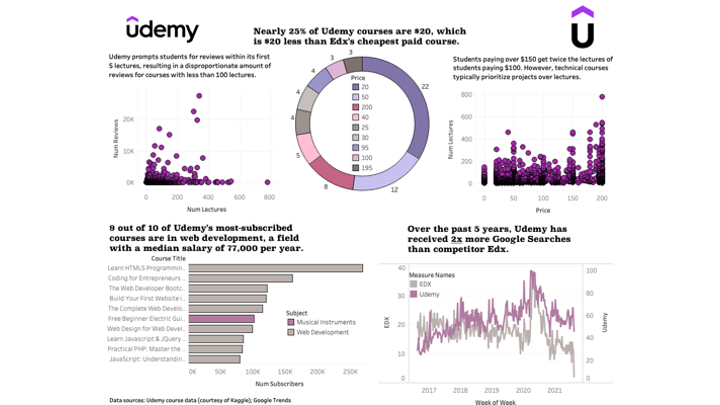

The dashboard page shown, as its layout file describes it:
{"tool":"tableau","page":{"name":"Dashboard 1","canvas":[1000,900],"ordinal":0},"visuals":[{"type":"worksheet","box":[0,0,1000,900]},{"type":"worksheet","box":[328,7,363,67]},{"type":"worksheet","param":"vert","box":[8,8,984,884]},{"type":"worksheet","box":[8,8,984,884]},{"type":"worksheet","box":[764,8,226,37]},{"type":"worksheet","box":[723,67,165,60]},{"type":"worksheet","box":[18,83,606,35]},{"type":"worksheet","param":"/Users/zachquinn/Desktop/DSC_500/August-Ames.jpeg","box":[710,116,165,219]},{"type":"worksheet","param":"/Users/zachquinn/Desktop/DSC_500/Playboy_Logo.jpeg","box":[18,136,86,79]},{"type":"worksheet","param":"/Users/zachquinn/Desktop/DSC_500/Playboy_Logo.jpeg","box":[251,136,123,81]},{"type":"worksheet","param":"/Users/zachquinn/Desktop/DSC_500/Playboy_Logo.jpeg","box":[432,138,65,79]},{"type":"worksheet","box":[326,171,100,30]},{"type":"worksheet","box":[497,172,100,30]},{"type":"worksheet","box":[85,175,100,30]},{"type":"worksheet","param":"/Users/zachquinn/Desktop/DSC_500/Playboy_Logo.jpeg","box":[255,223,81,77]},{"type":"worksheet","param":"/Users/zachquinn/Desktop/DSC_500/Playboy_Logo.jpeg","box":[19,226,74,77]},{"type":"worksheet","box":[317,251,100,30]},{"type":"worksheet","box":[84,253,100,30]},{"type":"worksheet","box":[11,300,536,36]},{"type":"worksheet","box":[553,331,444,37]},{"type":"worksheet","title":"Sheet 7","mark":"Automatic","rows":["Name"],"cols":["Video_upload"],"box":[9,336,512,294]},{"type":"worksheet","box":[556,367,288,33]},{"type":"worksheet","title":"Sheet 1","mark":"Pie","cols":["Calculation_461478226884714498","Calculation_461478226885246980"],"box":[701,368,289,227]},{"type":"worksheet","title":"Sheet 7","mark":"Automatic","rows":["Name"],"cols":["Video_upload"],"param":"[federated.05741v114cju9h14kq0z710uu5o5].[none:Cause_of_death:nk]","box":[342,412,140,118]},{"type":"worksheet","box":[538,484,253,47]},{"type":"worksheet","box":[700,596,268,35]},{"type":"worksheet","box":[9,604,576,61]},{"type":"worksheet","title":"Sheet 4","mark":"Automatic","rows":["Subscribers","Total views"],"cols":["Death_year"],"box":[491,647,498,242]},{"type":"worksheet","title":"Sheet 2","mark":"Automatic","rows":["0"],"cols":["Death_year"],"box":[12,655,422,236]},{"type":"worksheet","title":"Sheet 4","mark":"Automatic","rows":["Subscribers","Total views"],"cols":["Death_year"],"param":"[federated.1kuohpa0a9seql1b11qwj0hermxo].[sum:Subscribers:qk]","box":[572,660,158,65]},{"type":"worksheet","title":"Sheet 2","mark":"Automatic","rows":["0"],"cols":["Death_year"],"param":"[federated.1hwwnh00zd0yyo11sj2ct02gvg25].[none:Death_year:qk]","box":[66,698,160,61]},{"type":"worksheet","title":"Sheet 4","mark":"Automatic","rows":["Subscribers","Total views"],"cols":["Death_year"],"param":"[federated.1kuohpa0a9seql1b11qwj0hermxo].[sum:Total views:qk]","box":[577,751,156,34]}]}

Visuals, with their boxes on the page's 1000x900 design canvas (x1, y1, x2, y2). These are canvas units, not pixel positions in the 720x405 screenshot, which may show the page scaled, cropped or inside an application window:
worksheet: (0, 0, 1000, 900)
worksheet: (328, 7, 691, 74)
worksheet: (8, 8, 992, 892)
worksheet: (8, 8, 992, 892)
worksheet: (764, 8, 990, 45)
worksheet: (723, 67, 888, 127)
worksheet: (18, 83, 624, 118)
worksheet: (710, 116, 875, 335)
worksheet: (18, 136, 104, 215)
worksheet: (251, 136, 374, 217)
worksheet: (432, 138, 497, 217)
worksheet: (326, 171, 426, 201)
worksheet: (497, 172, 597, 202)
worksheet: (85, 175, 185, 205)
worksheet: (255, 223, 336, 300)
worksheet: (19, 226, 93, 303)
worksheet: (317, 251, 417, 281)
worksheet: (84, 253, 184, 283)
worksheet: (11, 300, 547, 336)
worksheet: (553, 331, 997, 368)
"Sheet 7" worksheet: (9, 336, 521, 630)
worksheet: (556, 367, 844, 400)
"Sheet 1" worksheet (Pie marks): (701, 368, 990, 595)
"Sheet 7" worksheet: (342, 412, 482, 530)
worksheet: (538, 484, 791, 531)
worksheet: (700, 596, 968, 631)
worksheet: (9, 604, 585, 665)
"Sheet 4" worksheet: (491, 647, 989, 889)
"Sheet 2" worksheet: (12, 655, 434, 891)
"Sheet 4" worksheet: (572, 660, 730, 725)
"Sheet 2" worksheet: (66, 698, 226, 759)
"Sheet 4" worksheet: (577, 751, 733, 785)
